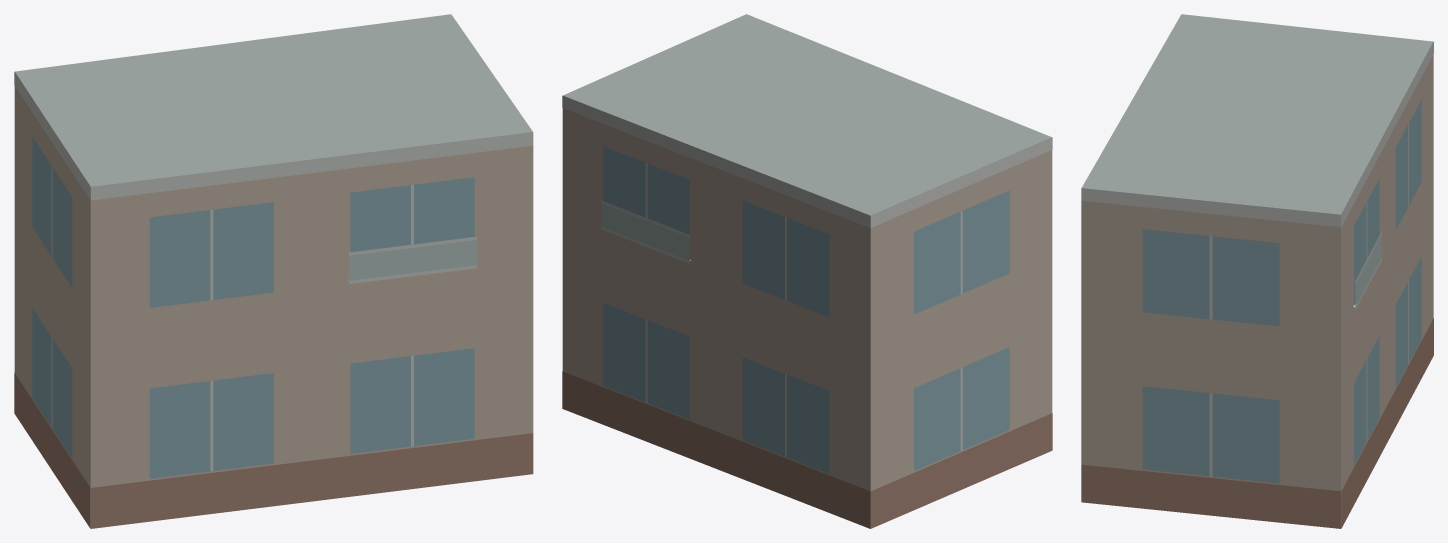
File: survey-upis-32868431.glb
The picture shows the model from 3 angles, left to right: view 1: azimuth 30°, elevation 25°; view 2: azimuth 150°, elevation 25°; view 3: azimuth 270°, elevation 25°; orthographic projection. The views are drawn at different scales.
Visible parts, largest first — view 1: survey-upis-32868431.tmp; view 2: survey-upis-32868431.tmp; view 3: survey-upis-32868431.tmp.
Boxes of the visible parts, x1,y1,x2,y2 form: survey-upis-32868431.tmp: (14,14,533,528); survey-upis-32868431.tmp: (562,14,1052,528); survey-upis-32868431.tmp: (1081,14,1433,528).
Bounding box in the file's own units: 8.37 × 6.1 × 6.21.
